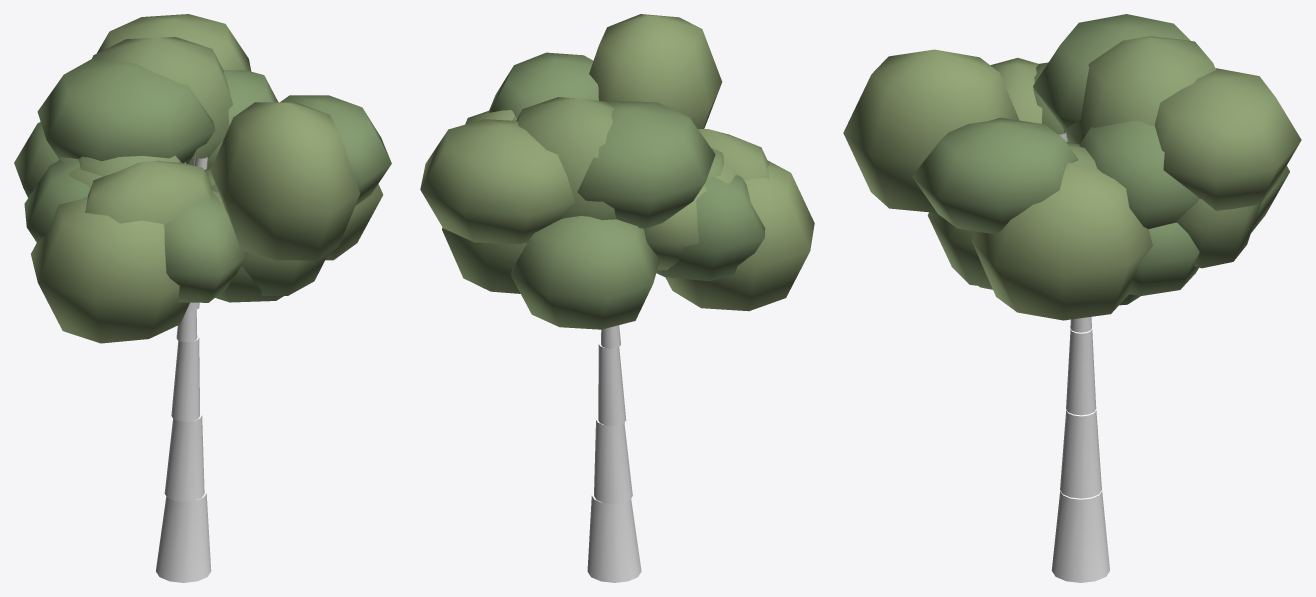
Rendered from oak_v0_near.gltf.
3 views of the same model, side by side, from view 1: azimuth 30°, elevation 25°; view 2: azimuth 150°, elevation 25°; view 3: azimuth 270°, elevation 25° (orthographic). The views are drawn at different scales.
Parts seen in each view (by area): view 1: foliage, bark; view 2: foliage, bark; view 3: foliage, bark.
Part boxes in pixels (x1,y1,x2,y2): foliage: (14, 14, 391, 343); bark: (156, 156, 211, 582); foliage: (420, 14, 814, 329); bark: (587, 325, 641, 582); foliage: (843, 14, 1301, 320); bark: (1051, 128, 1109, 582).
Size of the model in its own units: 3.8 by 5.28 by 4.08.
